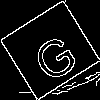G: (25, 25, 81, 85)
